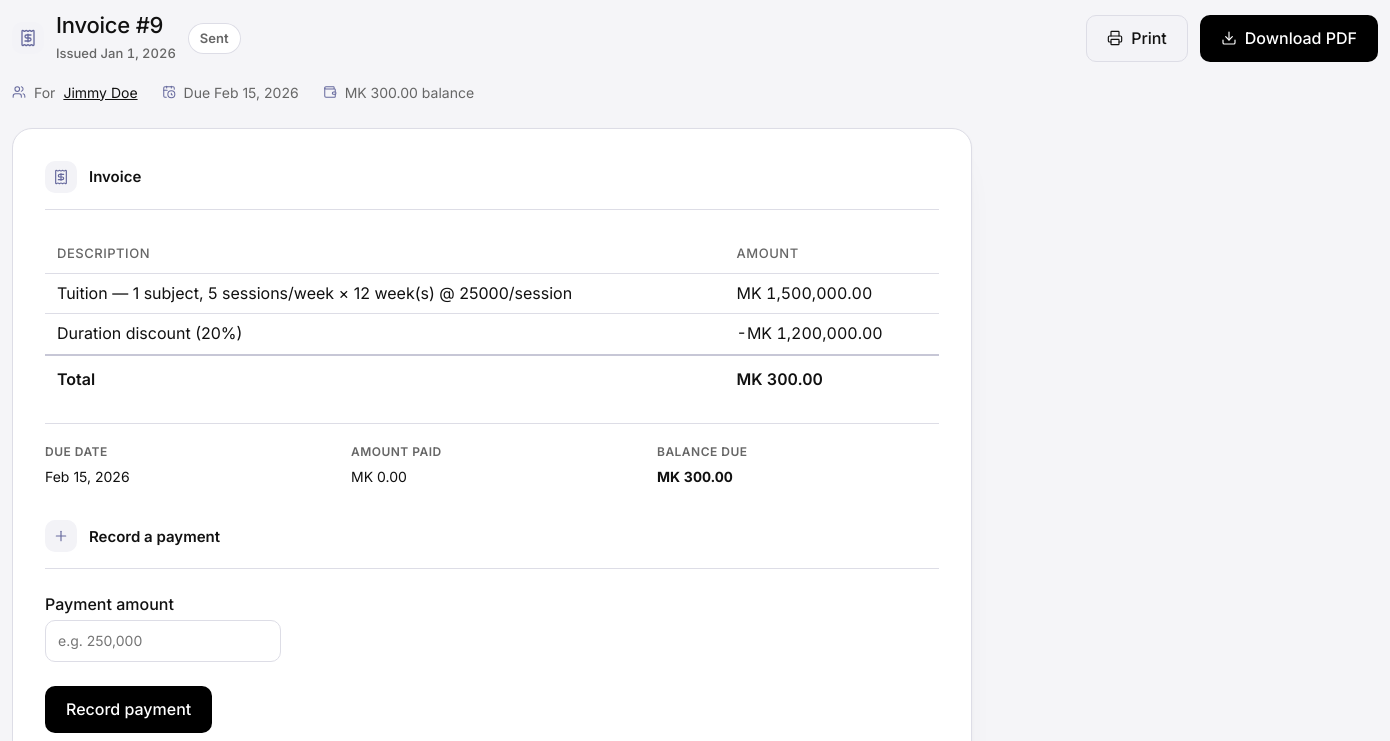
Scenario: InvoiceDetailPage › shows an error message if recording payment fails
The image size is (1390, 741).
Check: the link "Jimmy Doe" is shown, box [63,81,138,104]
Step 1. Type "50.00" into the field labelled "Payment amount" → [163, 641], box [45,620,281,662]
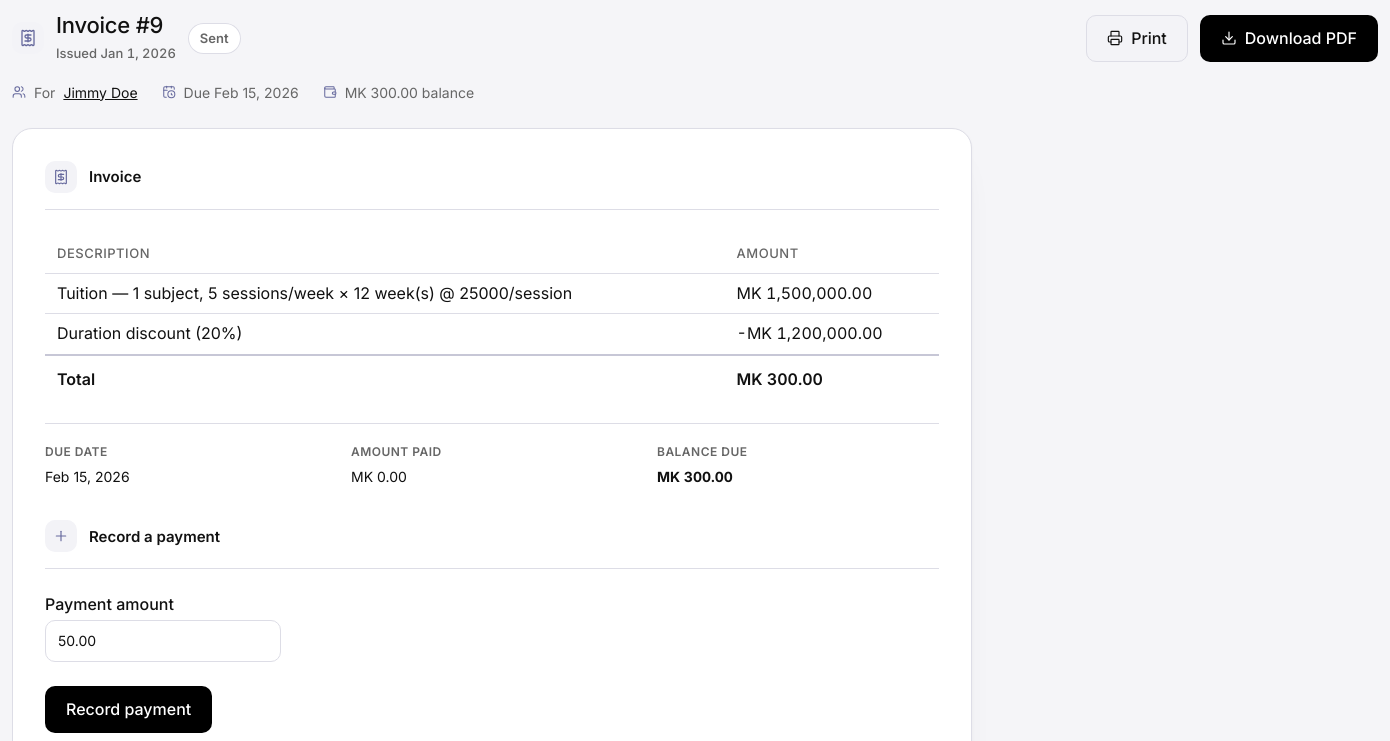
Step 2. Click the button "Record payment" → [129, 709], box [45,686,212,733]
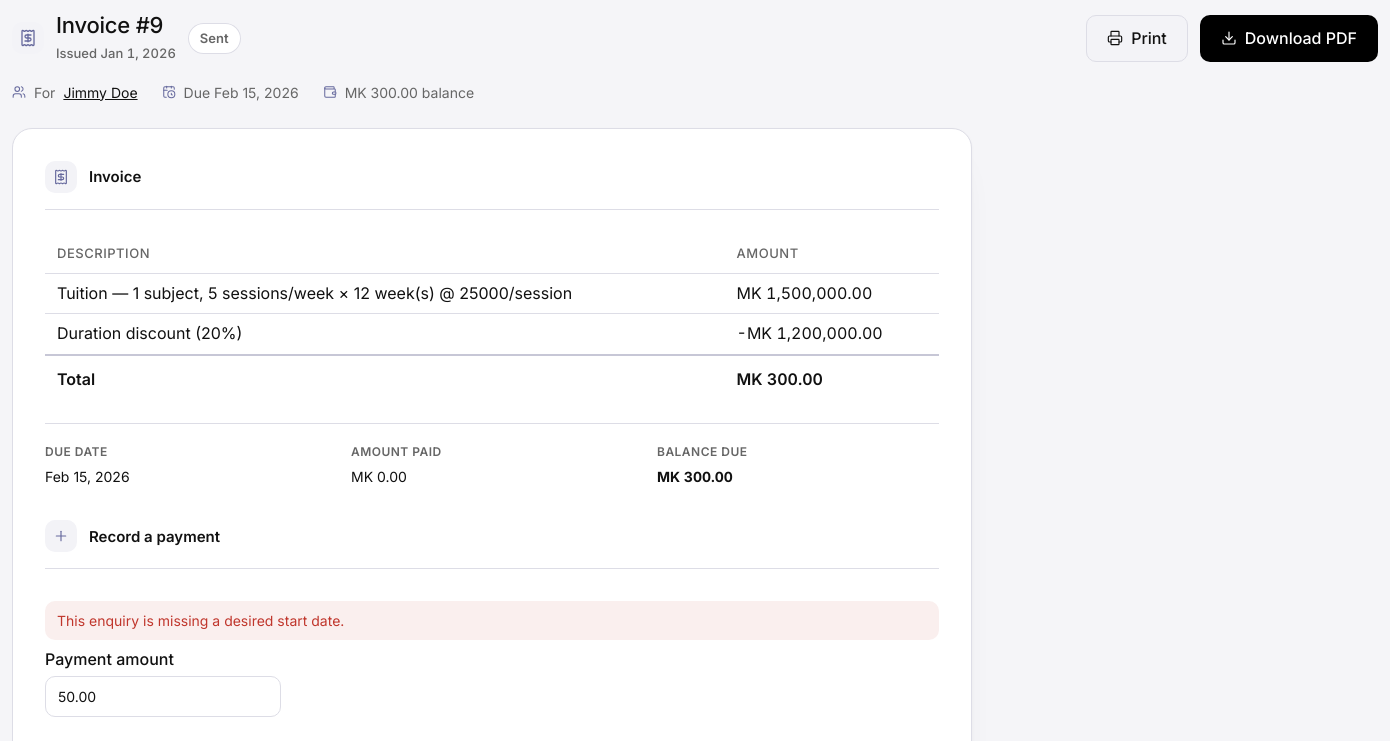
Check: the list item "This enquiry is missing a desired start date." is shown, box [57,612,344,629]
